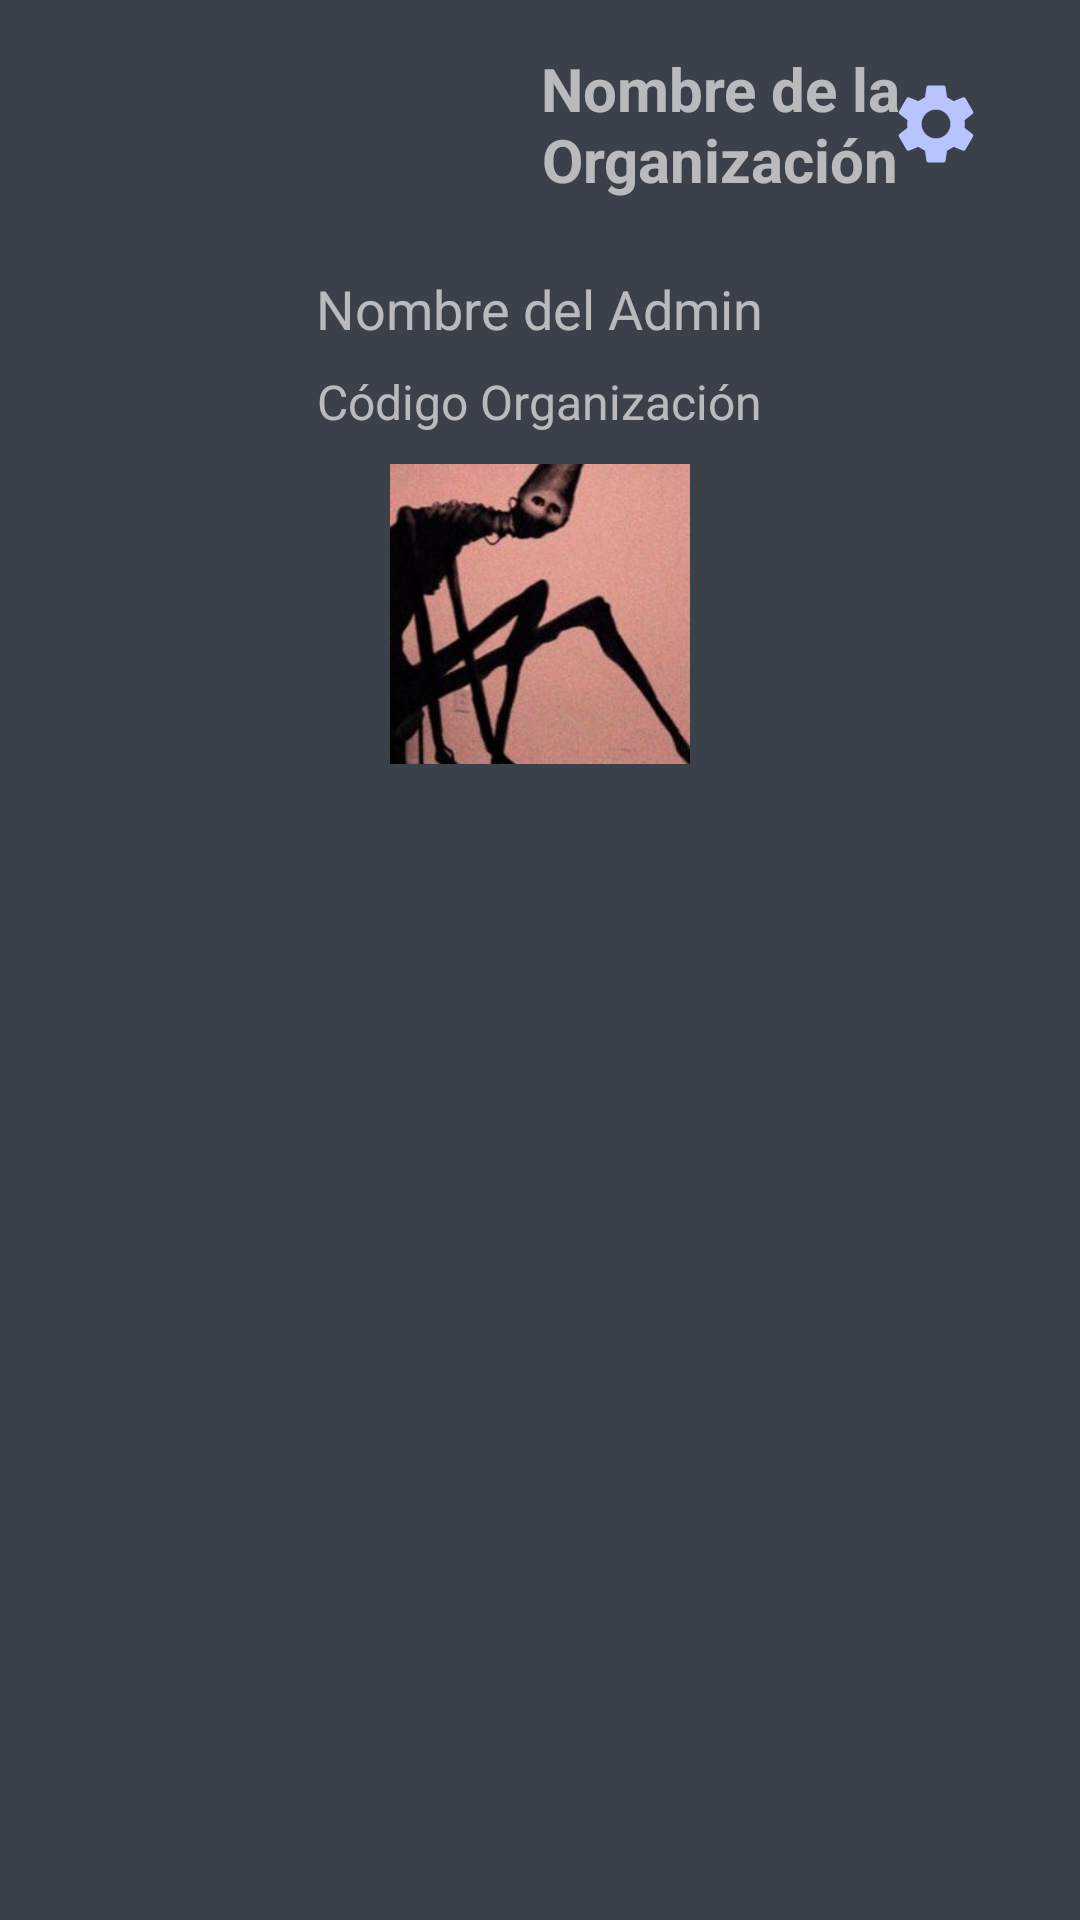

Icons on this 1080px×1920px Android screen, each with its box as (x1, y1, x2, y2):
settings: (888, 80, 974, 172)
